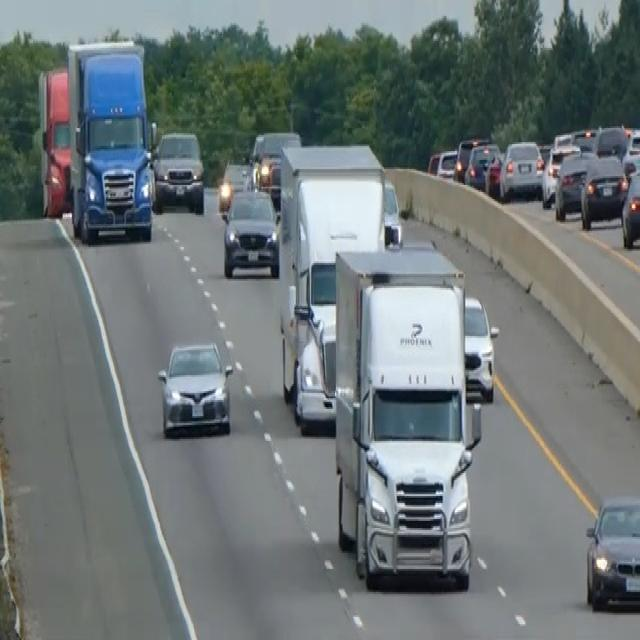car: (156, 338, 233, 437), (584, 491, 639, 612), (221, 187, 279, 277), (152, 128, 205, 213), (463, 293, 498, 402), (579, 151, 627, 229), (553, 147, 595, 220), (250, 128, 301, 185), (499, 137, 544, 201), (541, 140, 579, 207), (217, 158, 251, 215), (464, 139, 499, 190), (453, 134, 487, 182), (620, 165, 639, 247), (592, 122, 628, 162), (427, 148, 457, 180), (484, 151, 504, 197), (622, 126, 639, 174)
lorry: (331, 242, 487, 592), (66, 38, 156, 246)
